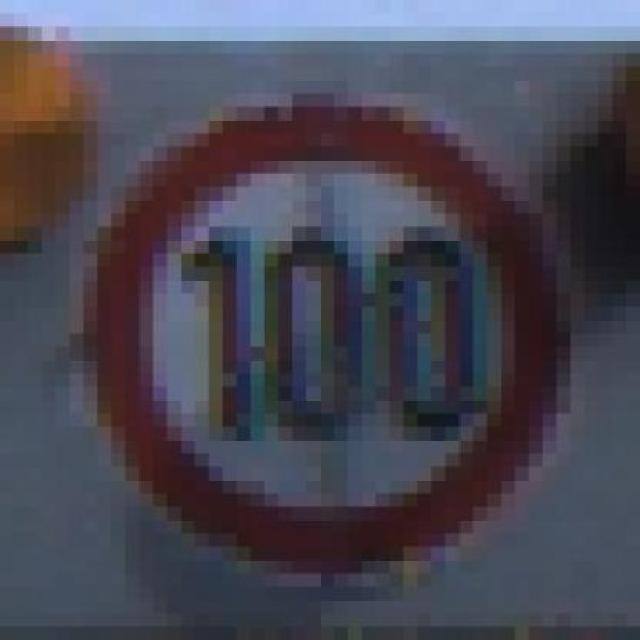forb_speed_over_100: (89, 102, 560, 569)
